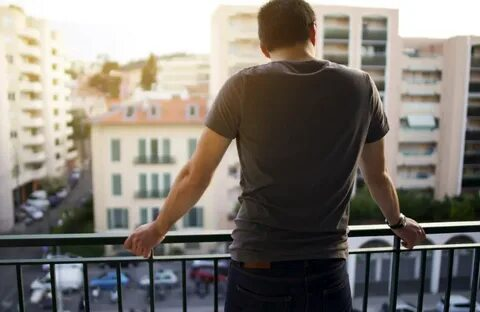awake: (154, 1, 410, 312)
